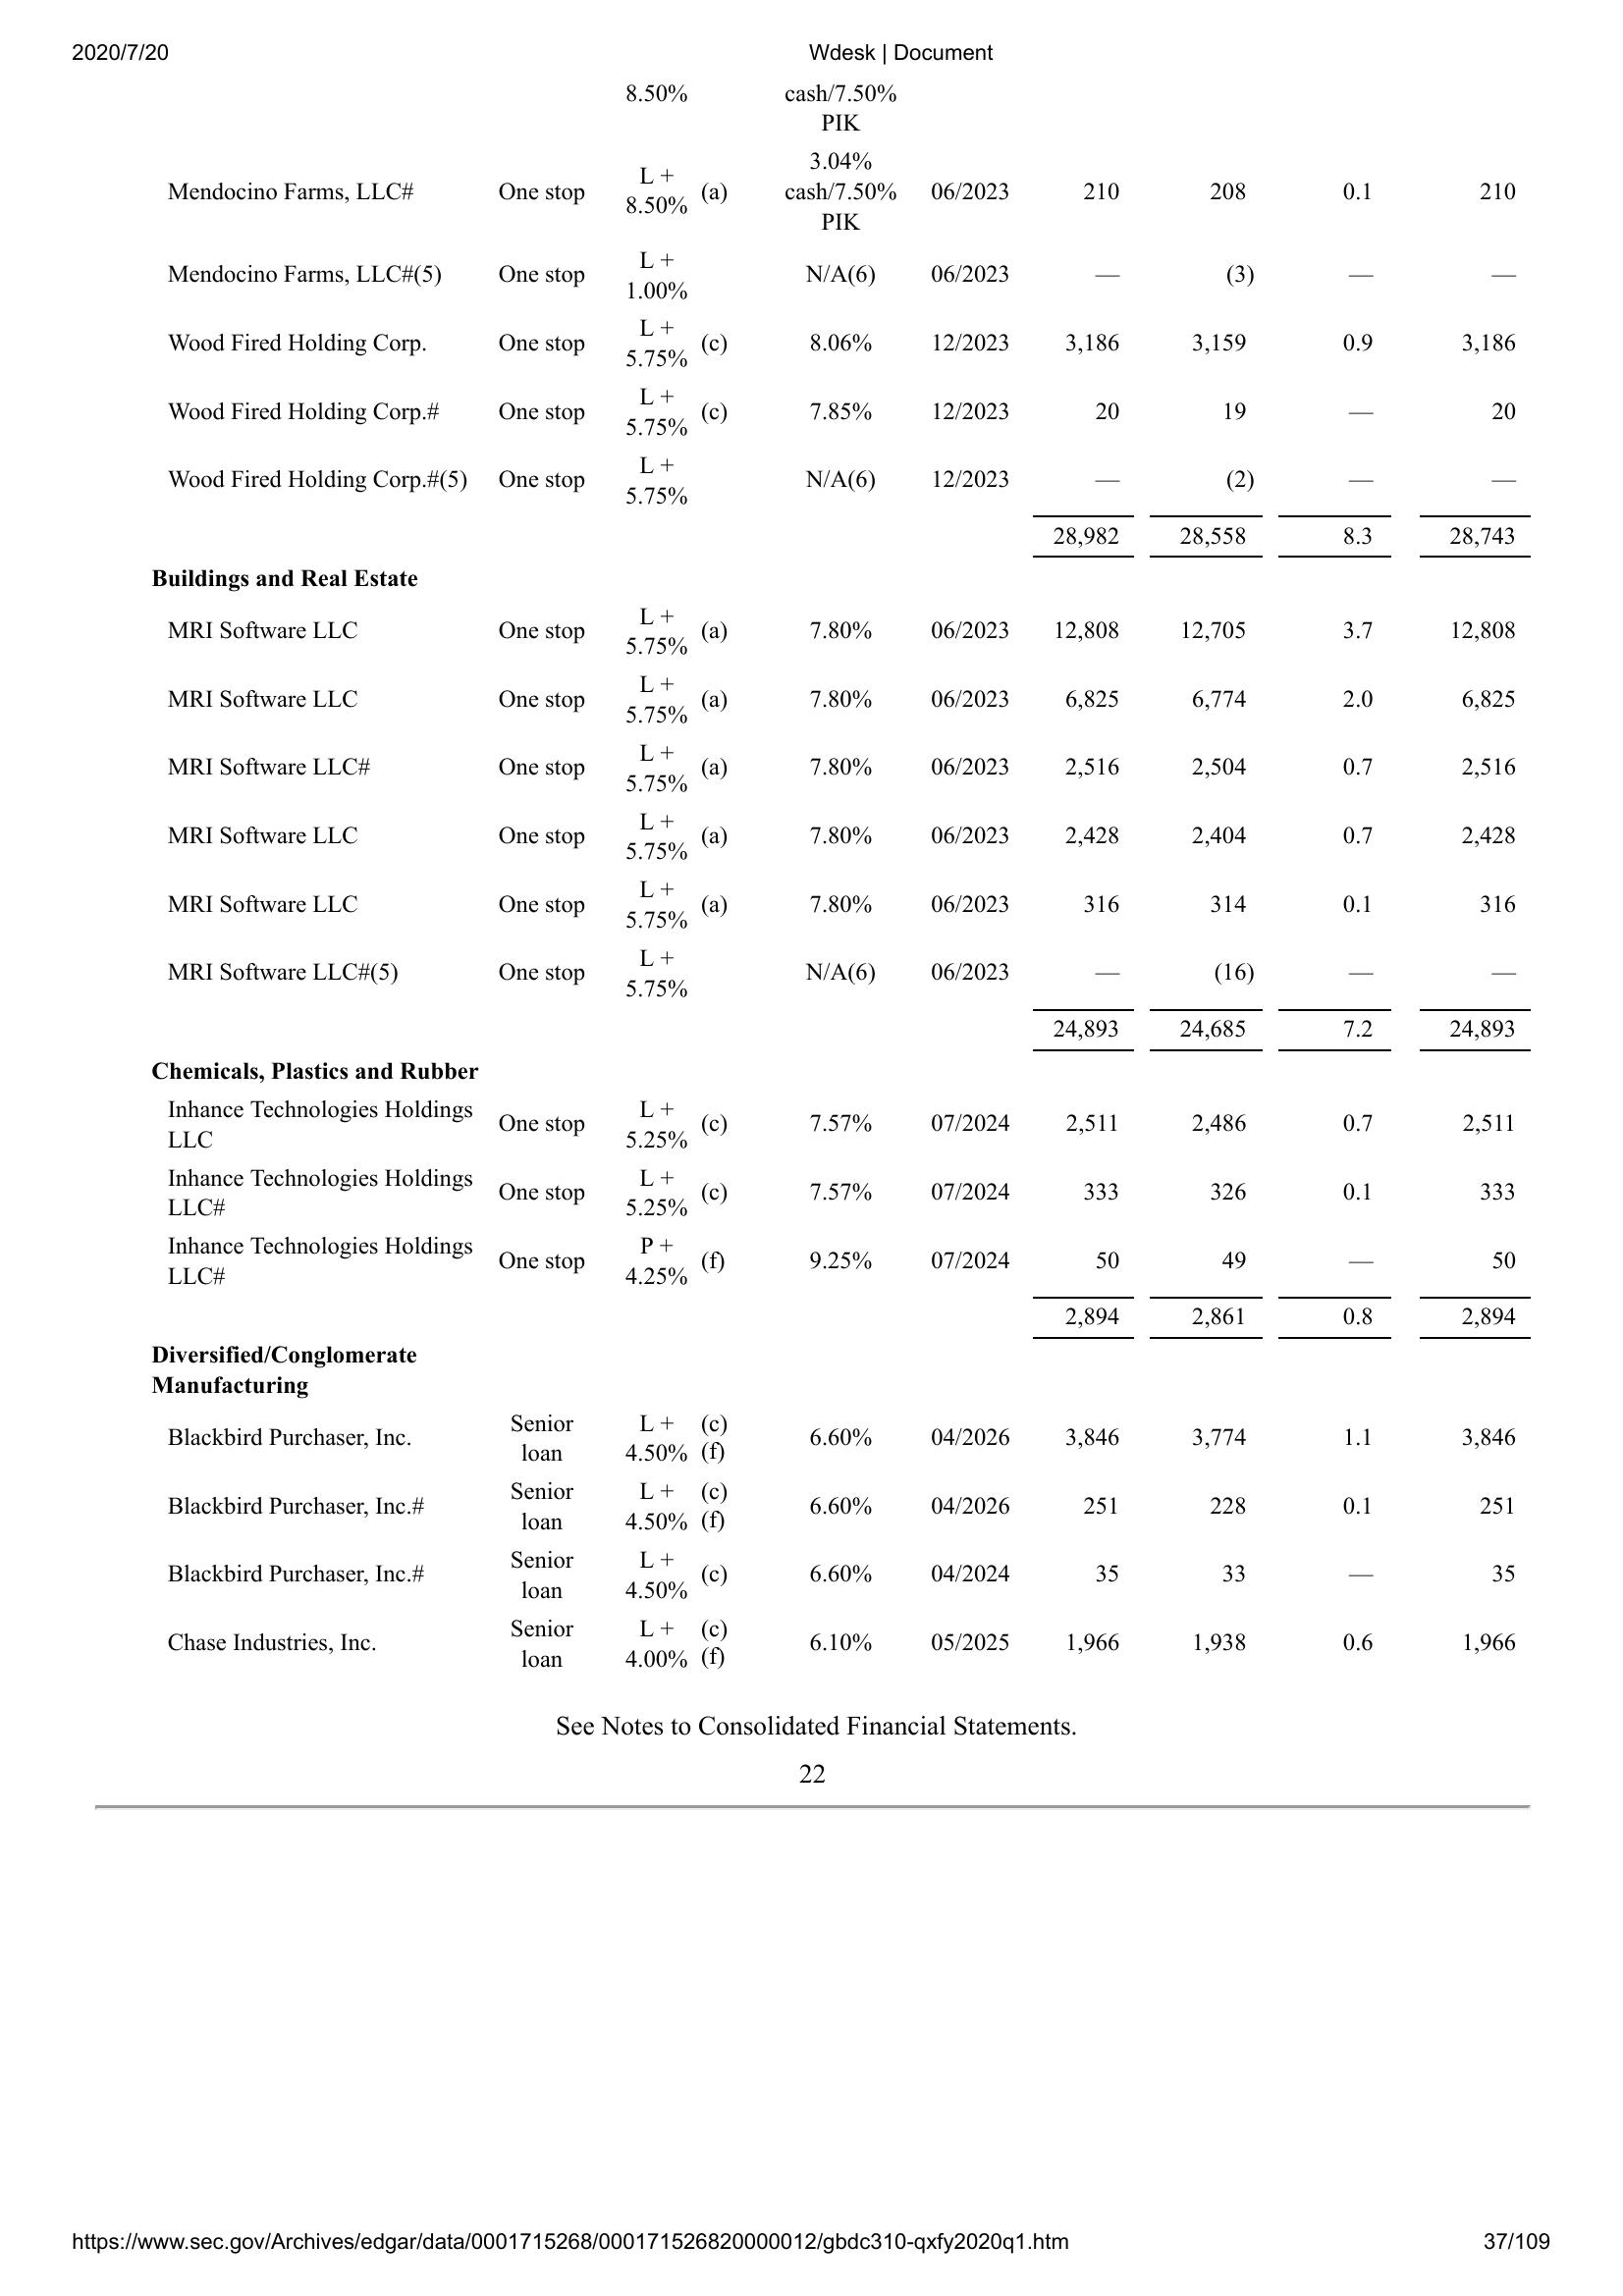table: (146, 137, 1526, 1661)
